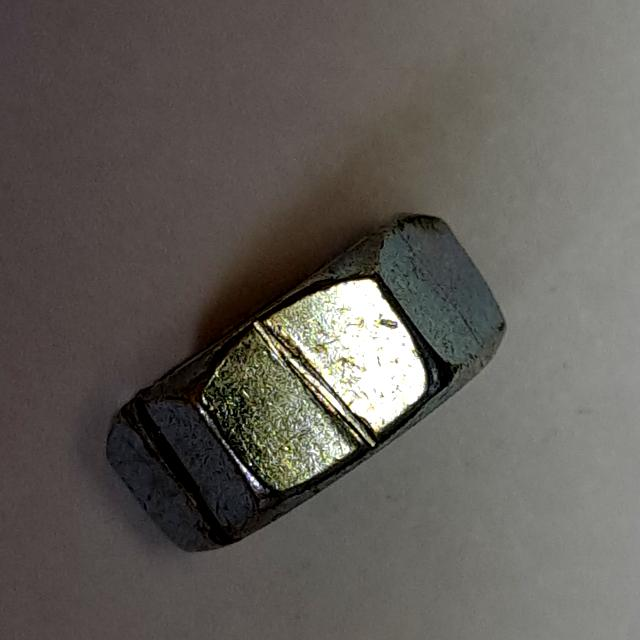Side_Scratches: (94, 198, 527, 575)
